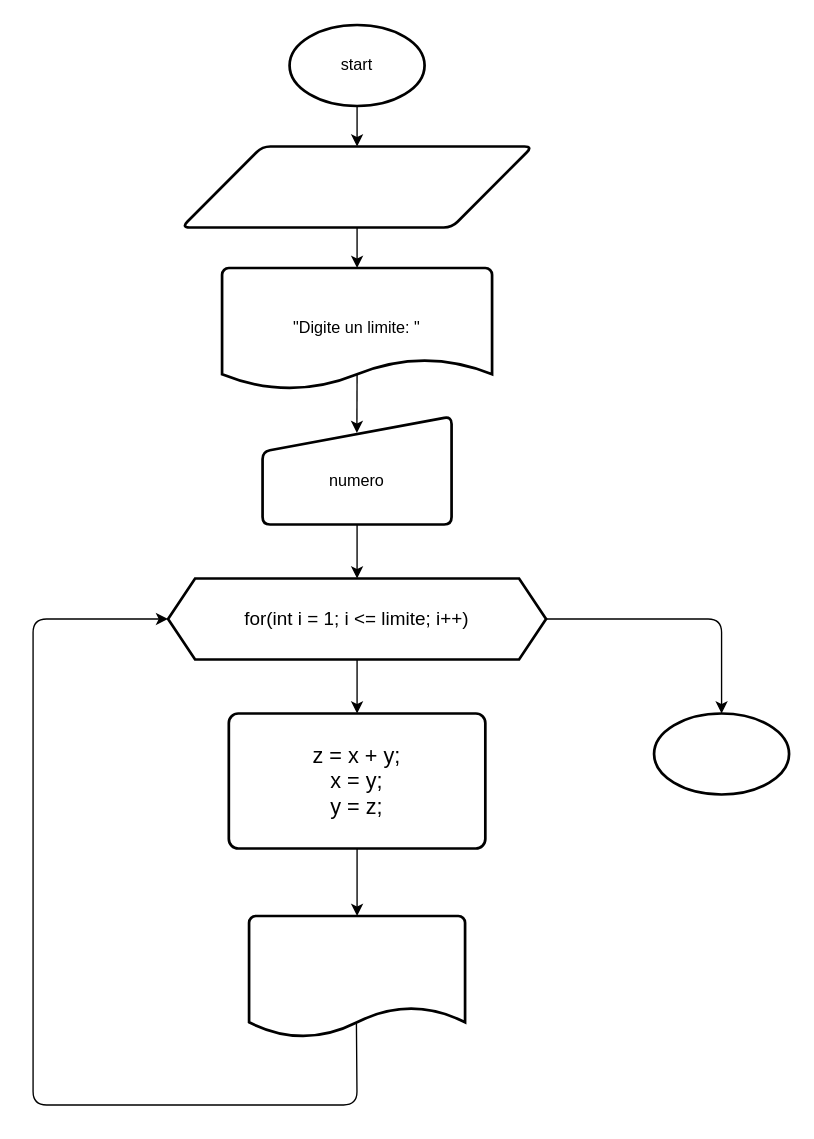
Some shapes in this 814 by 1139 pixel diagram are drawn without their labels. The shapes that lost their labels are listed below. From the top down, each one's centre as x and y in pixels, then its label:
the point at 356,186: limite = 0; x = 0, y = 1, < = 1;
the point at 721,753: End
the point at 356,976: z + ", "
